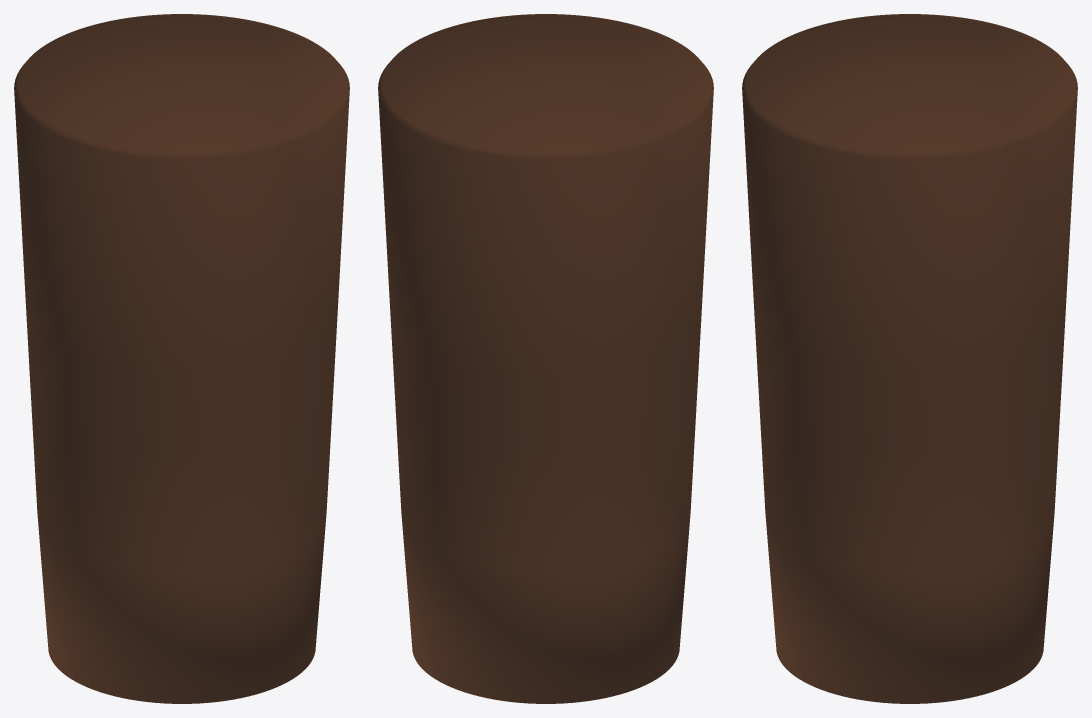
The model's file is sweet-coldbrew.glb.
3 views of the same model, side by side, from view 1: azimuth 30°, elevation 25°; view 2: azimuth 150°, elevation 25°; view 3: azimuth 270°, elevation 25° (orthographic).
Visible parts, largest first — view 1: coldbrew liquid volume; view 2: coldbrew liquid volume; view 3: coldbrew liquid volume.
Part boxes in pixels (bbox=[...]): coldbrew liquid volume: bbox=[14, 14, 349, 703]; coldbrew liquid volume: bbox=[378, 14, 713, 703]; coldbrew liquid volume: bbox=[742, 14, 1077, 703].
Size of the model in its own units: 1.23 by 2.28 by 1.23.
